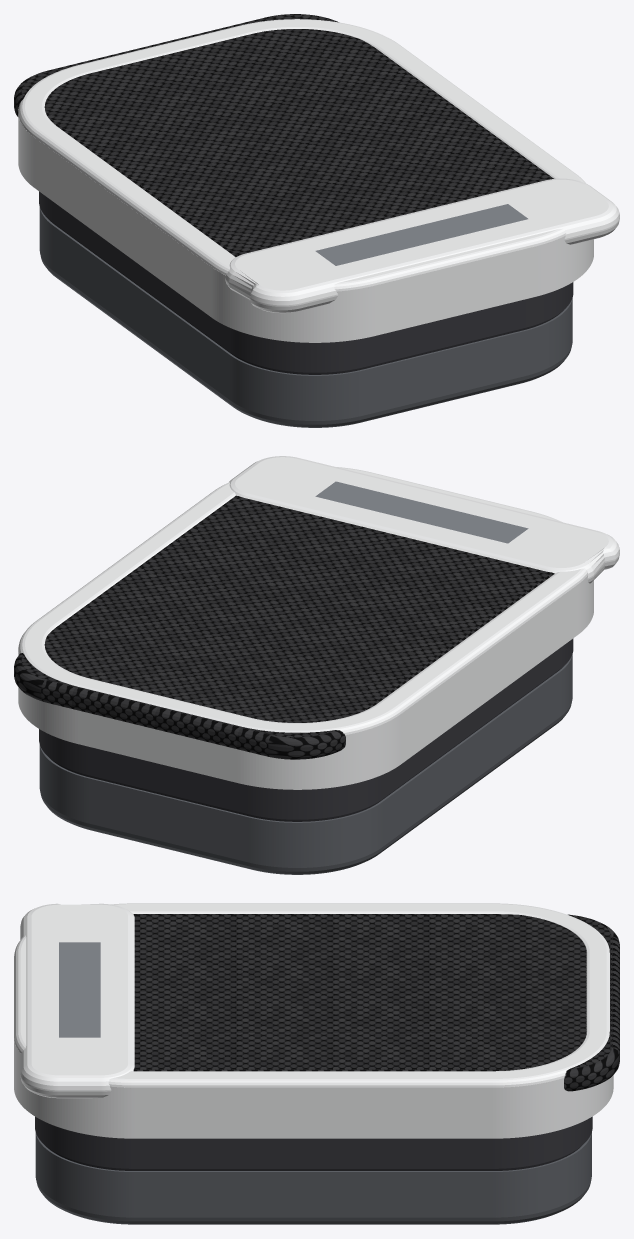
Rendered from whoop-pod.glb.
The picture shows the model from 3 angles, top to bottom: view 1: azimuth 30°, elevation 25°; view 2: azimuth 150°, elevation 25°; view 3: azimuth 270°, elevation 25°; orthographic projection.
Parts seen in each view (by area): view 1: part_band, part_bottom, part_top; view 2: part_band, part_bottom, part_top; view 3: part_band, part_bottom, part_top.
Part boxes in pixels (left/top/right/bottom): part_band: left=14, top=14, right=619, bottom=342; part_bottom: left=39, top=207, right=572, bottom=427; part_top: left=39, top=191, right=573, bottom=372; part_band: left=14, top=456, right=619, bottom=789; part_bottom: left=39, top=654, right=572, bottom=874; part_top: left=39, top=638, right=573, bottom=819; part_band: left=14, top=903, right=619, bottom=1138; part_bottom: left=35, top=1132, right=591, bottom=1224; part_top: left=35, top=1116, right=592, bottom=1168.
Size of the model in its own units: 0.0266 by 0.0112 by 0.0377.
219 materials, 15 textured.
